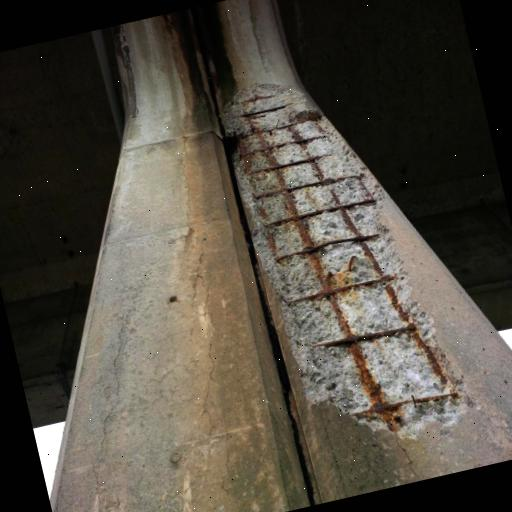spalling: (228, 82, 473, 436)
